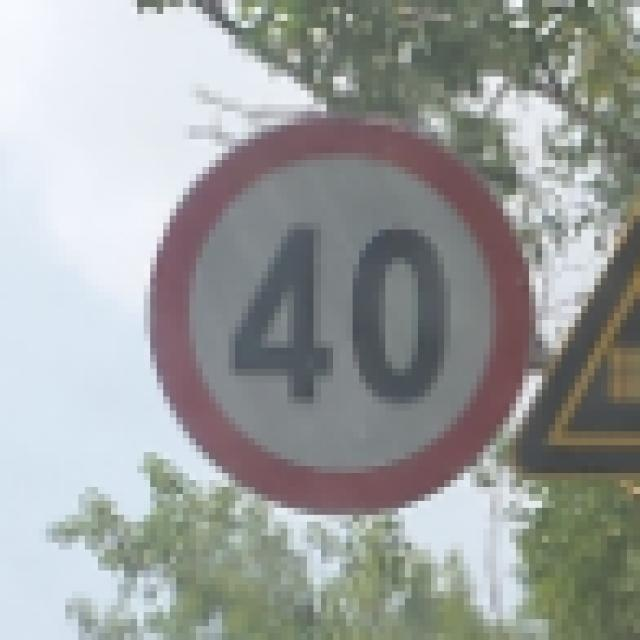Speed: (147, 102, 544, 527)
